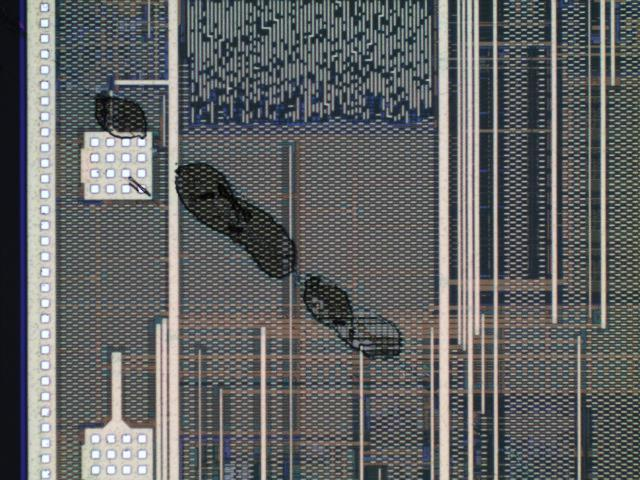SCRATCH: (92, 91, 410, 368)
